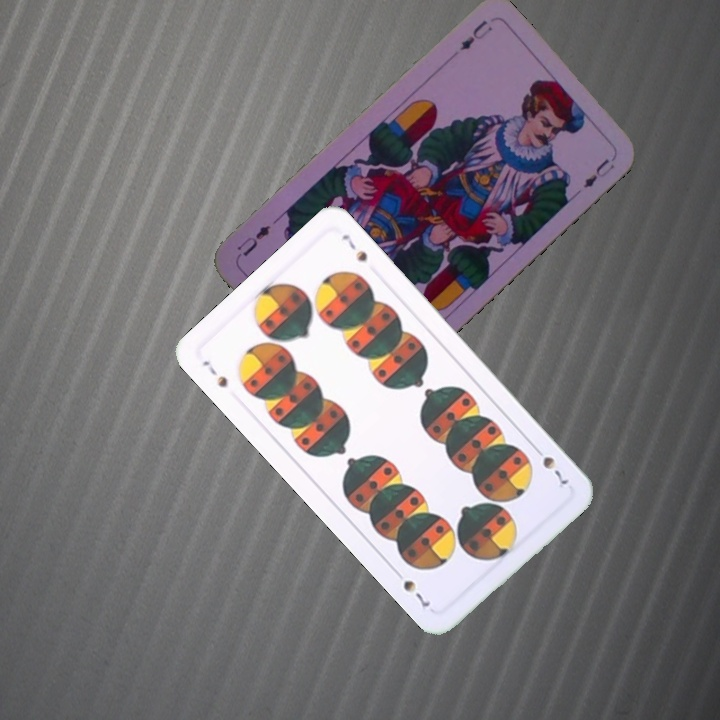EU: (455, 15, 495, 54)
S7: (529, 441, 570, 487), (198, 356, 230, 390)
